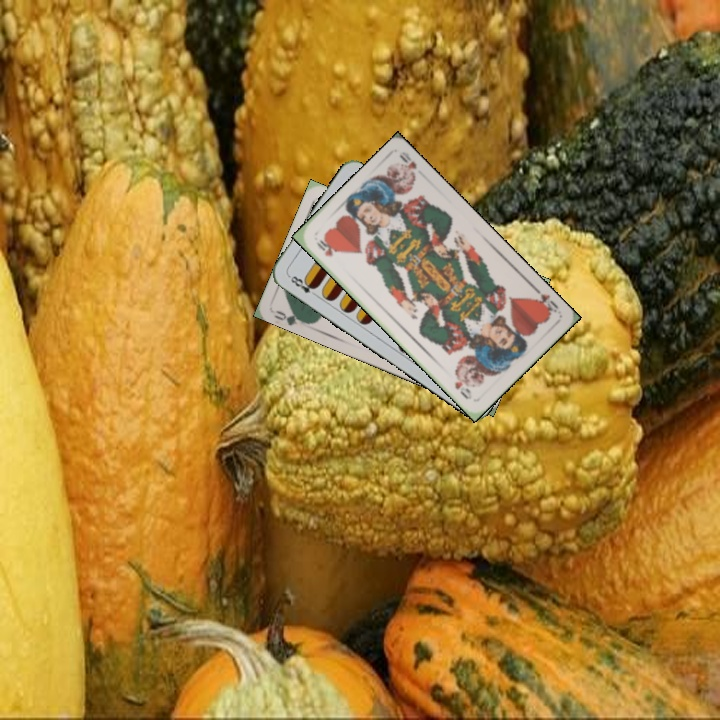E8: (284, 271, 320, 299)
GO: (270, 305, 310, 327)
HO: (528, 283, 563, 318), (312, 236, 338, 259)
